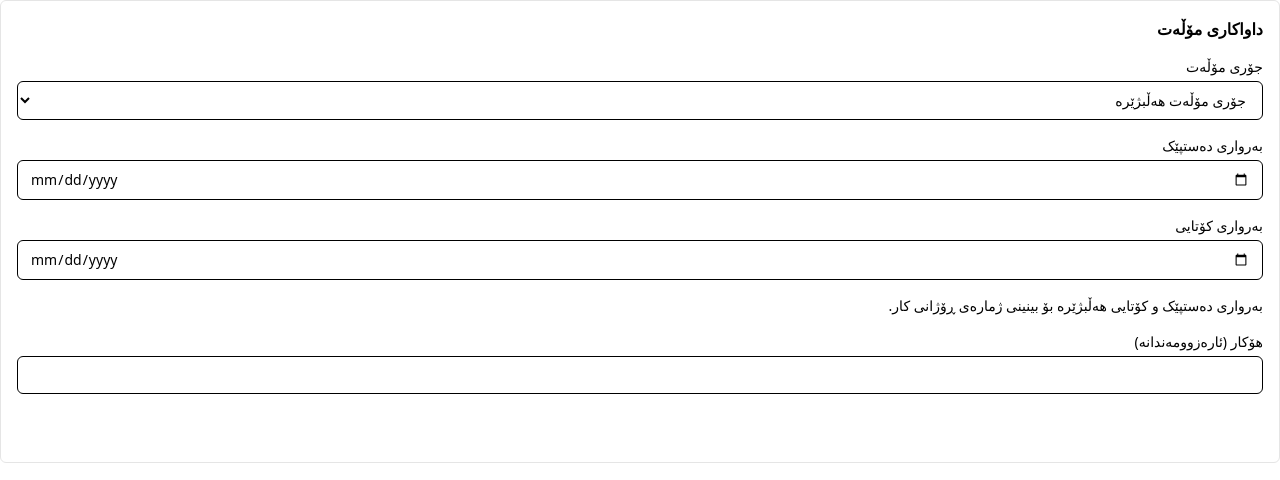
Test: LeaveSubmitForm rendered in ku › renders the real translated title with dir=rtl, and a western-numeral working-days preview after picking dates
Type "2026-08-03" into the date field labelled "بەرواری دەستپێک".
click(640, 180); type("2026-08-03")  # box top-left (17, 160), bottom-right (1263, 200)
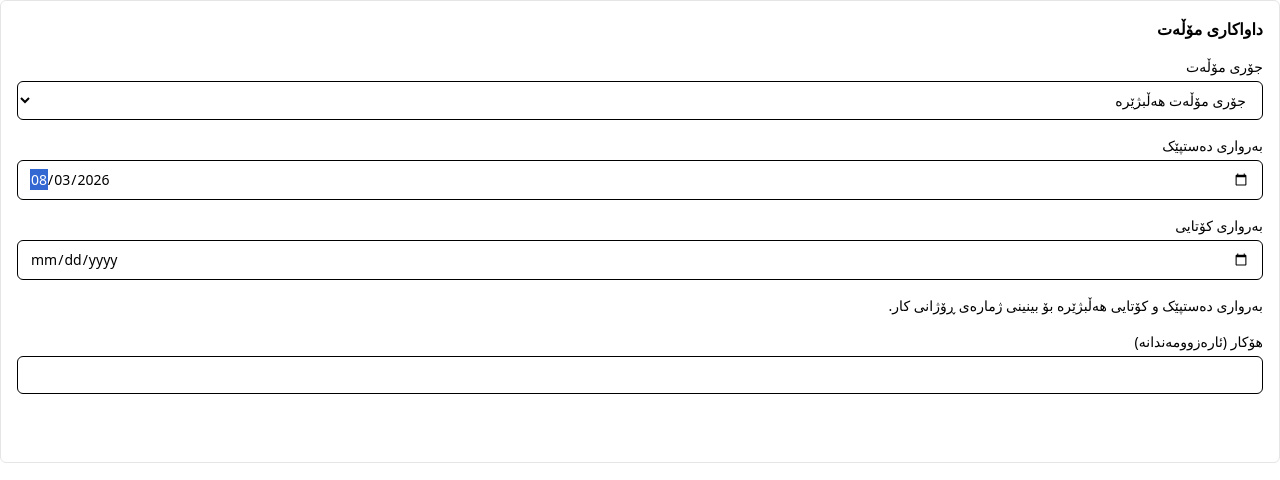
Type "2026-08-05" into the date field labelled "بەرواری کۆتایی".
click(640, 260); type("2026-08-05")  # box top-left (17, 240), bottom-right (1263, 280)
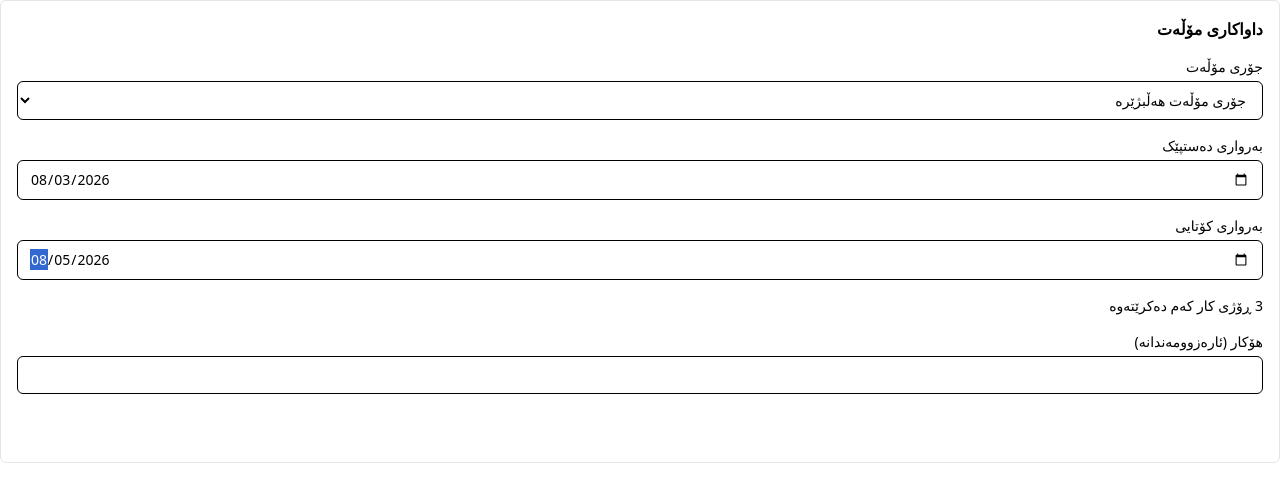
Now the text "3 ڕۆژی کار کەم دەکرێتەوە" is shown, box top-left (1109, 296), bottom-right (1263, 315)
